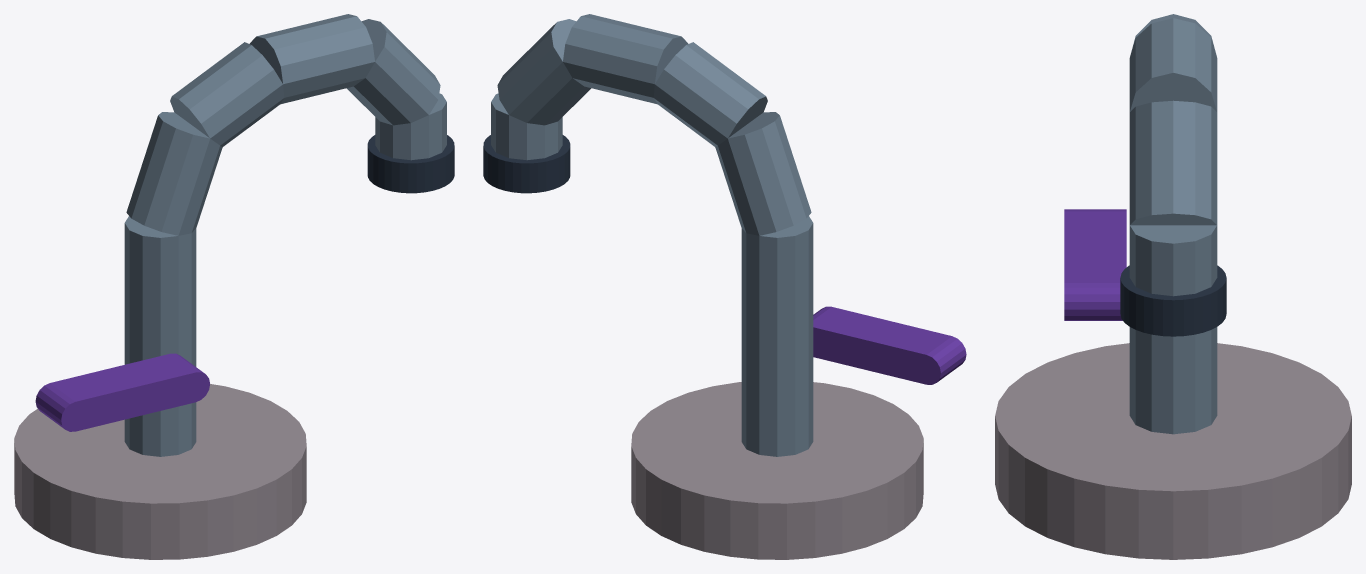
Rendered from faucet.glb.
3 renders of one model, left to right at view 1: azimuth 30°, elevation 25°; view 2: azimuth 150°, elevation 25°; view 3: azimuth 270°, elevation 25°, orthographic. The views are drawn at different scales.
Visible parts, largest first — view 1: base, pipe0, lever, pipe1, pipe3, pipe2, pipe4, outlet, pipe5; view 2: base, pipe0, lever, pipe1, pipe3, pipe2, pipe4, outlet, pipe5; view 3: base, pipe4, pipe0, pipe3, lever, pipe5, outlet.
Part boxes in pixels (x1,y1,x2,y2): base: [14, 384, 306, 559]; pipe0: [124, 216, 196, 456]; lever: [35, 353, 209, 431]; pipe1: [126, 112, 222, 235]; pipe3: [249, 14, 374, 104]; pipe2: [170, 42, 284, 146]; pipe4: [347, 19, 440, 125]; outlet: [367, 135, 454, 193]; pipe5: [375, 93, 446, 160]; base: [631, 382, 923, 559]; pipe0: [741, 216, 813, 456]; lever: [813, 306, 966, 384]; pipe1: [715, 112, 811, 235]; pipe3: [563, 14, 688, 104]; pipe2: [653, 42, 767, 146]; pipe4: [497, 19, 590, 125]; outlet: [483, 135, 570, 193]; pipe5: [491, 93, 562, 160]; base: [995, 343, 1351, 559]; pipe4: [1129, 100, 1217, 225]; pipe0: [1129, 327, 1217, 434]; pipe3: [1129, 18, 1217, 111]; lever: [1064, 209, 1126, 320]; pipe5: [1129, 225, 1217, 296]; outlet: [1120, 265, 1226, 336].
Size of the model in its own units: 1.36 by 1.31 by 0.8.
